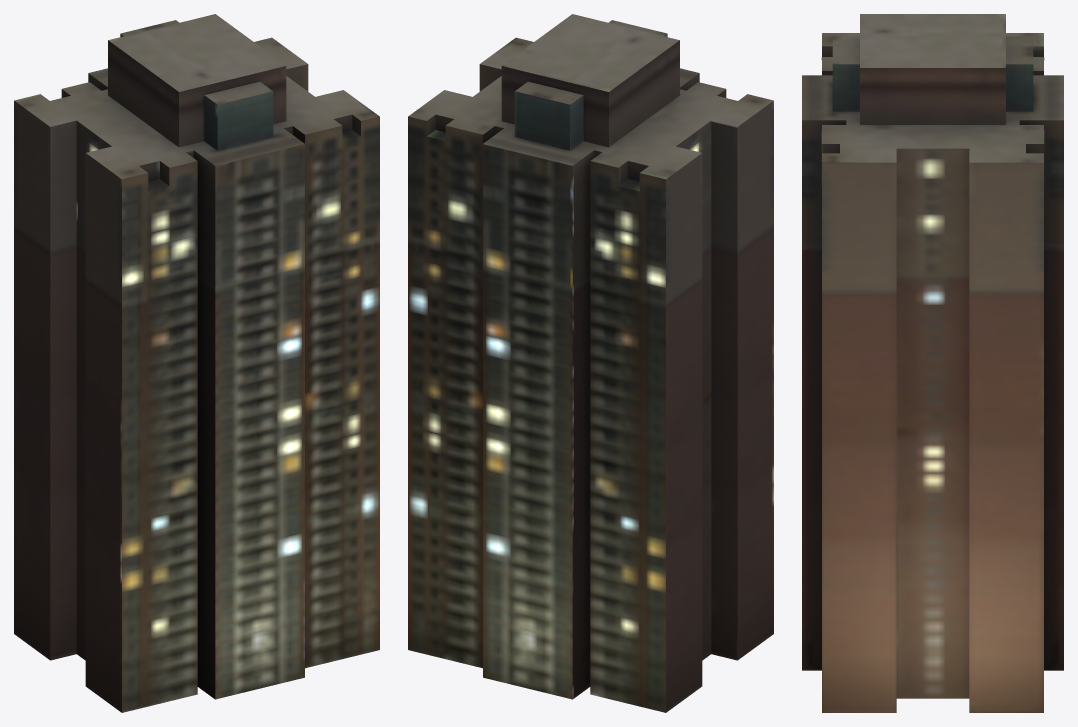
Rendered from background_buildings_1.003_background_buildings_1_0_lev3.glb.
3 renders of one model, left to right at view 1: azimuth 30°, elevation 25°; view 2: azimuth 150°, elevation 25°; view 3: azimuth 270°, elevation 25°, orthographic. The views are drawn at different scales.
Parts seen in each view (by area): view 1: background_buildings_1.003_background_buildings_1_0_lev3; view 2: background_buildings_1.003_background_buildings_1_0_lev3; view 3: background_buildings_1.003_background_buildings_1_0_lev3.
Boxes of the visible parts, x1,y1,x2,y2 form: background_buildings_1.003_background_buildings_1_0_lev3: [14, 14, 379, 712]; background_buildings_1.003_background_buildings_1_0_lev3: [408, 14, 773, 712]; background_buildings_1.003_background_buildings_1_0_lev3: [802, 14, 1063, 712].
Bounding box in the file's own units: 8 × 17.46 × 6.82.
1 material, 1 textured.
